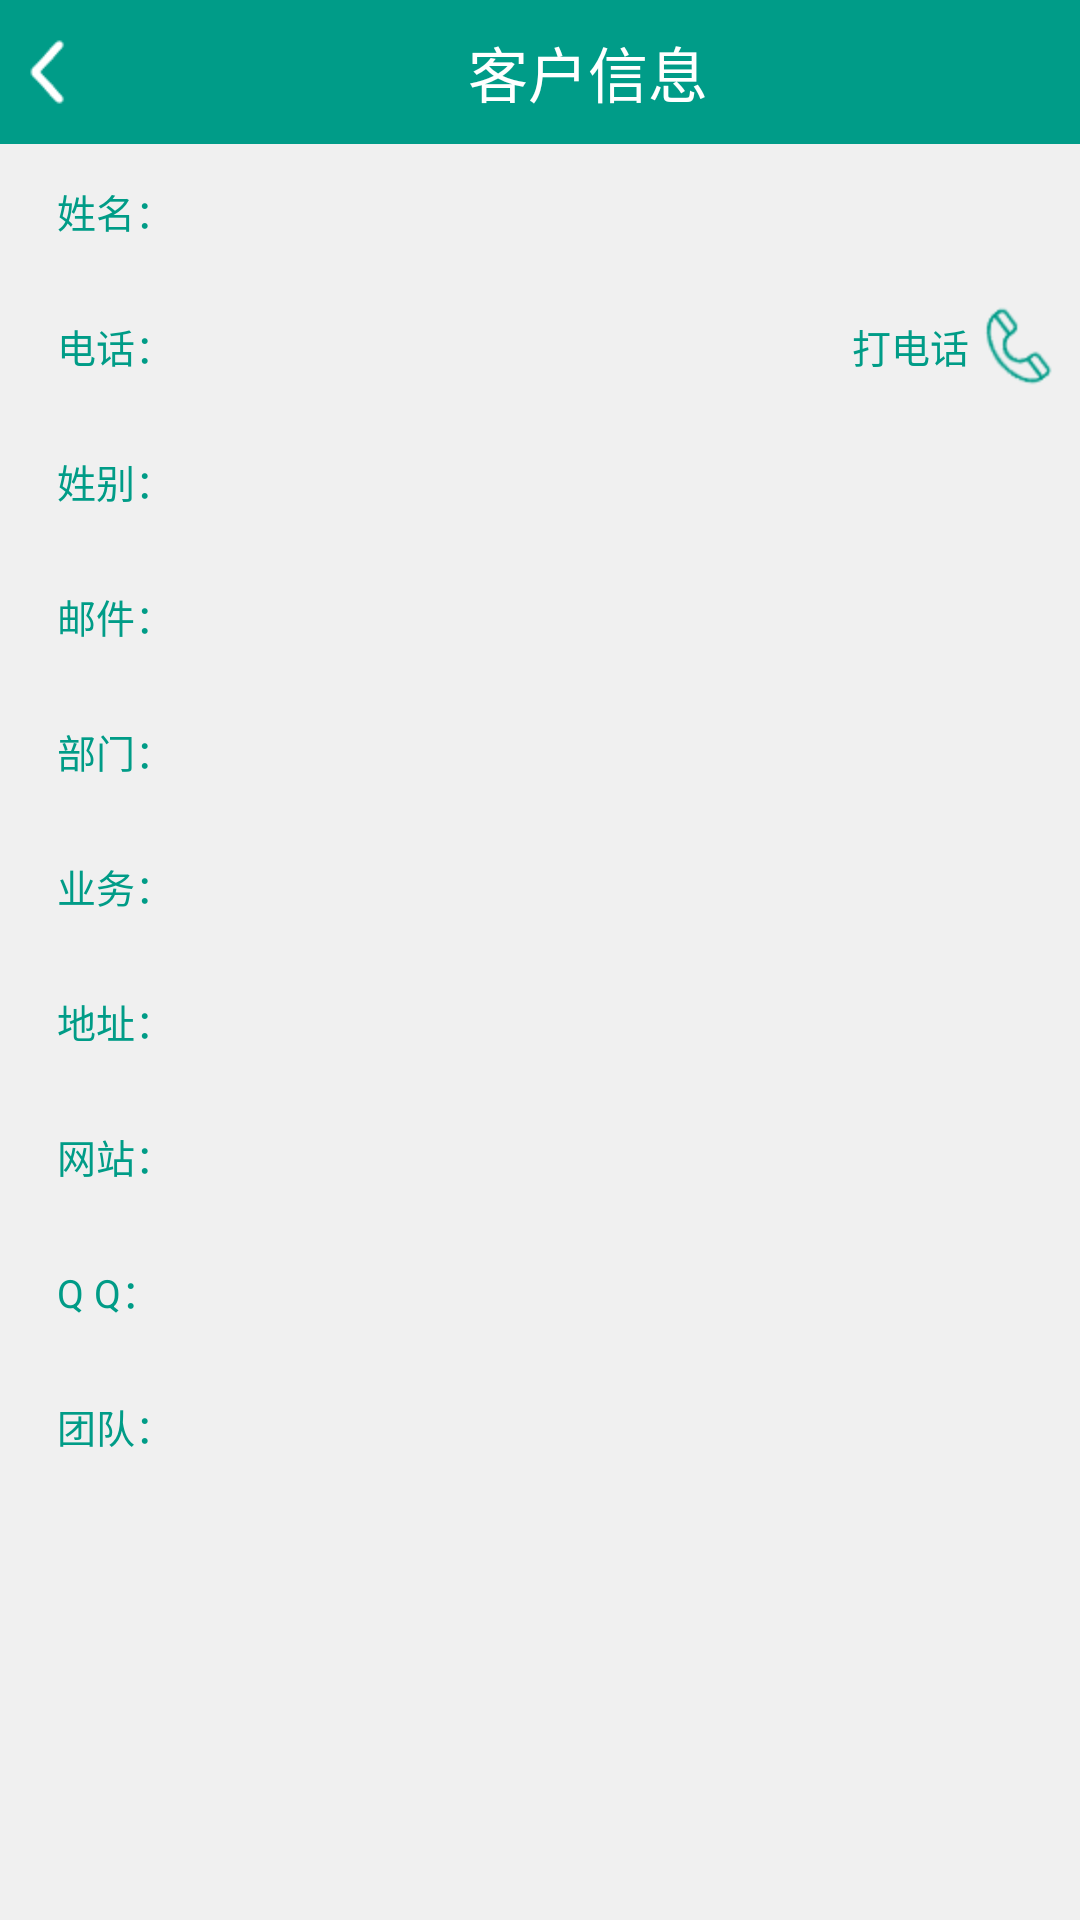

Screen size 1080px x 1920px. Icon name, then its box in pixels as (x1, y1, x2, y2):
back arrow: (30, 40, 64, 104)
